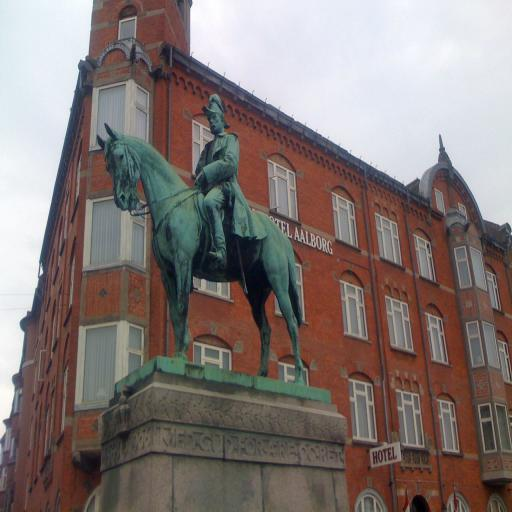Horse: (97, 124, 304, 385)
